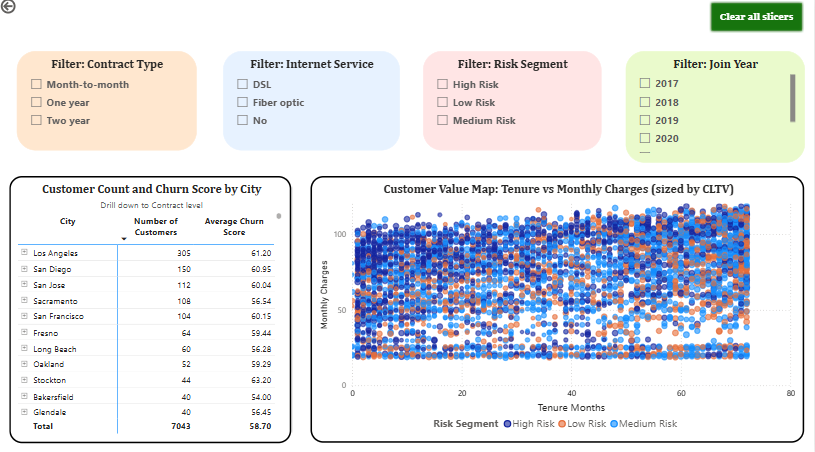

The dashboard page shown, as its layout file describes it:
{"tool":"powerbi","page":{"name":"Interactive Analysis","canvas":[1280,720],"ordinal":2},"visuals":[{"type":"pivotTable","title":"Customer Count and Churn Score by City","fields":{"Rows":["Dim_Location.City","Dim_Contract.Contract"],"Values":["CountNonNull(Fact_CustomerAccount.CustomerAccountKey)","Avg(Fact_CustomerAccount.Churn_Score)"]},"box":[17.4,282.6,442,418.8],"z":0},{"type":"actionButton","box":[0,0,76.8,31.9],"z":1000},{"type":"slicer","title":"Filter: Contract Type","fields":{"Values":["Dim_Contract.Contract"]},"box":[28.8,86.2,282.5,156.2],"z":2000},{"type":"slicer","title":"Filter: Internet Service","fields":{"Values":["Dim_Service.Internet_Service"]},"box":[352.5,86.2,277.5,156.2],"z":3000},{"type":"slicer","title":"Filter: Risk Segment","fields":{"Values":["Fact_CustomerAccount.Risk_Segment"]},"box":[666.2,86.2,280,156.2],"z":4000},{"type":"slicer","title":"Filter: Join Year","fields":{"Values":["Dim_Date.Year"]},"box":[983.8,86.2,281.2,175],"z":5000},{"type":"scatterChart","title":"Customer Value Map: Tenure vs Monthly Charges (sized by CLTV)","fields":{"X":["Avg(Fact_CustomerAccount.Tenure_Months)"],"Y":["Fact_CustomerAccount.Monthly_Charges"],"Size":["Avg(Fact_CustomerAccount.CLTV)"],"Series":["Fact_CustomerAccount.Risk_Segment"],"Category":["Fact_CustomerAccount.CustomerAccountKey"]},"box":[490,282.9,774.3,418.6],"z":6000},{"type":"actionButton","box":[1116.2,7.5,148.8,50],"z":7000}]}

Visuals, with their boxes in screenshot pixels (x1, y1, x2, y2), scaled from the page's 1280x720 canvas onto the 815x452 screenshot:
"Customer Count and Churn Score by City" pivotTable: detection(11, 177, 293, 440)
actionButton: detection(0, 0, 49, 20)
"Filter: Contract Type" slicer: detection(18, 54, 198, 152)
"Filter: Internet Service" slicer: detection(224, 54, 401, 152)
"Filter: Risk Segment" slicer: detection(424, 54, 602, 152)
"Filter: Join Year" slicer: detection(626, 54, 805, 164)
"Customer Value Map: Tenure vs Monthly Charges (sized by CLTV)" scatterChart: detection(312, 178, 805, 440)
actionButton: detection(711, 5, 805, 36)
